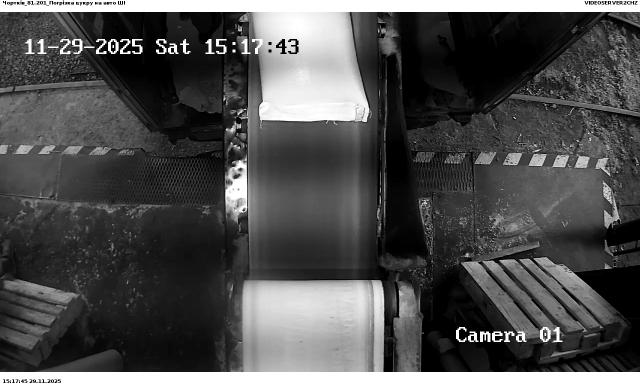bag: (252, 12, 370, 122)
